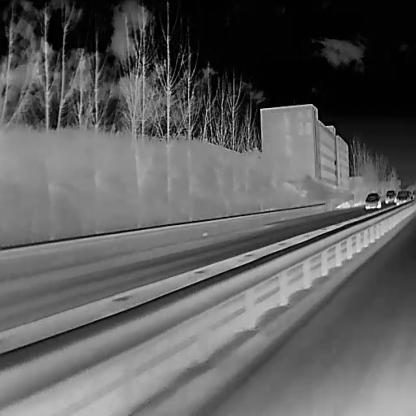car: (364, 192, 382, 209), (394, 189, 410, 204), (384, 189, 396, 203)
